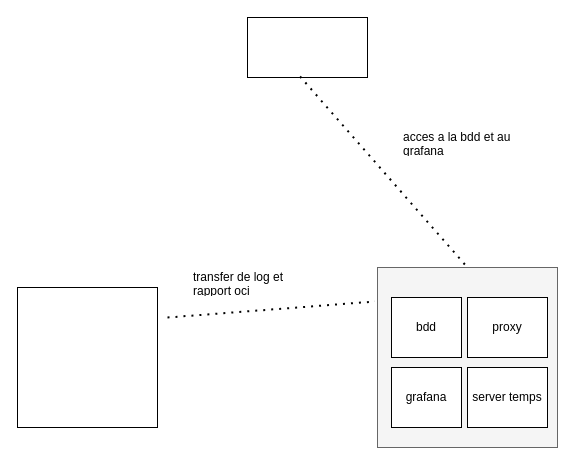
Image size: 575x465. Some labels were removed from this diagram. Each missing label, with the box of its shape:
reseau interne du site: (16, 286, 158, 428)
reseau veolia: (246, 16, 368, 78)
